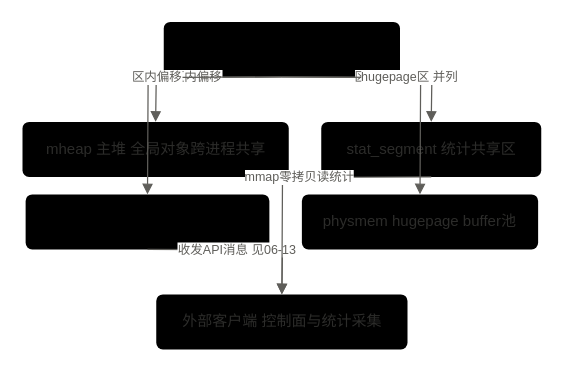
The diagram is 563 pixels wide and 371 high, and some of its shapes have lost their labels. Each missing label, with the centre of its shape:
"API svm_queue 双向消息队列" belongs at (x=146, y=221).
"svm_region_t 共享内存基址" belongs at (x=281, y=49).
